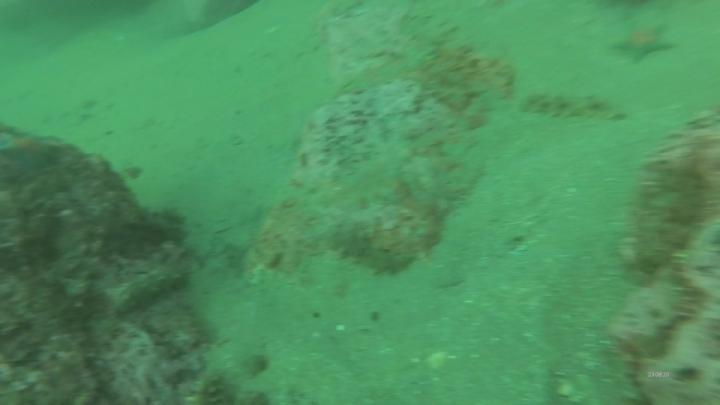holothurian: (109, 263, 190, 317), (336, 233, 419, 279), (521, 89, 627, 125)
starfish: (613, 19, 679, 65), (1, 129, 51, 169)
